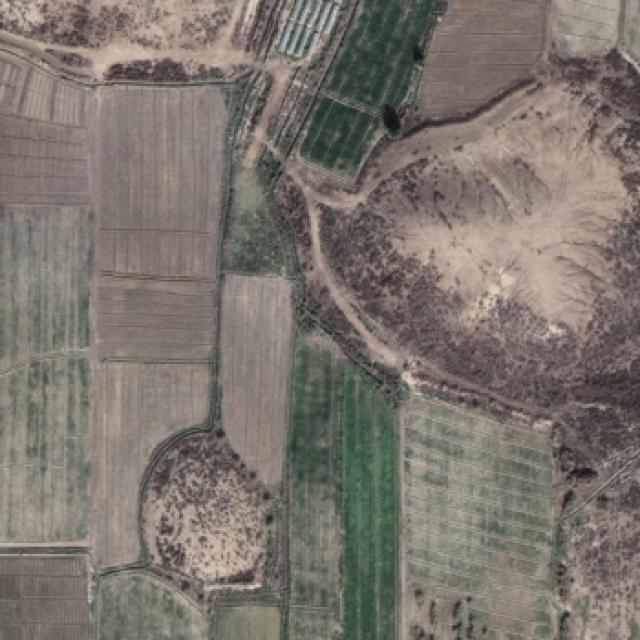ruins: (105, 89, 214, 228), (428, 12, 542, 118), (422, 490, 531, 581), (28, 215, 88, 358), (108, 360, 207, 439), (467, 446, 547, 510), (454, 1, 549, 46), (16, 62, 59, 120), (19, 573, 86, 603)
